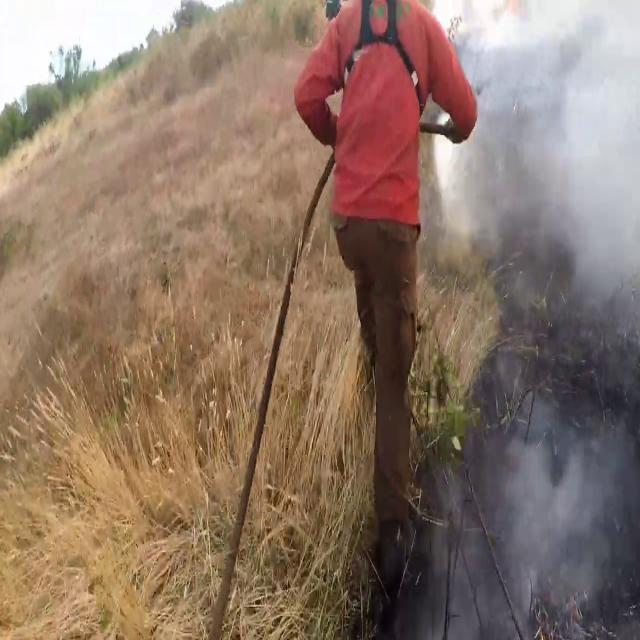Smoke: (447, 0, 640, 318), (477, 396, 639, 624)
